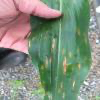Corn Gray leaf spot: (27, 20, 94, 99)
